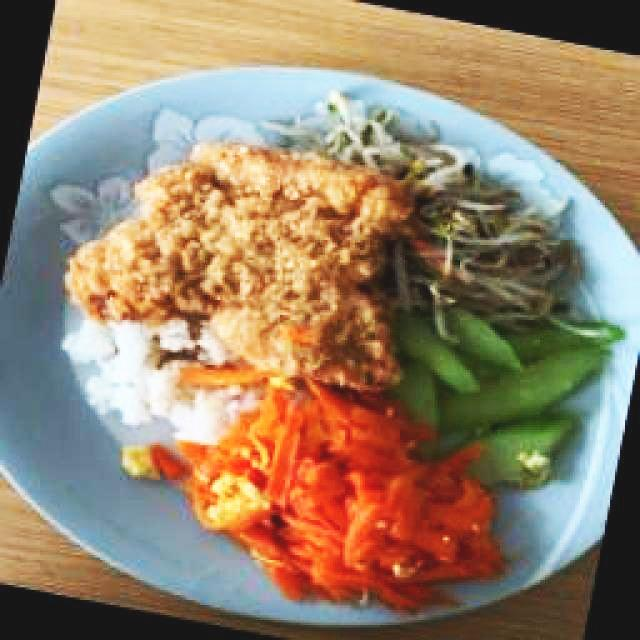Kung Pao Chicken: (126, 375, 507, 613)
fried_chicken: (64, 137, 420, 389)
